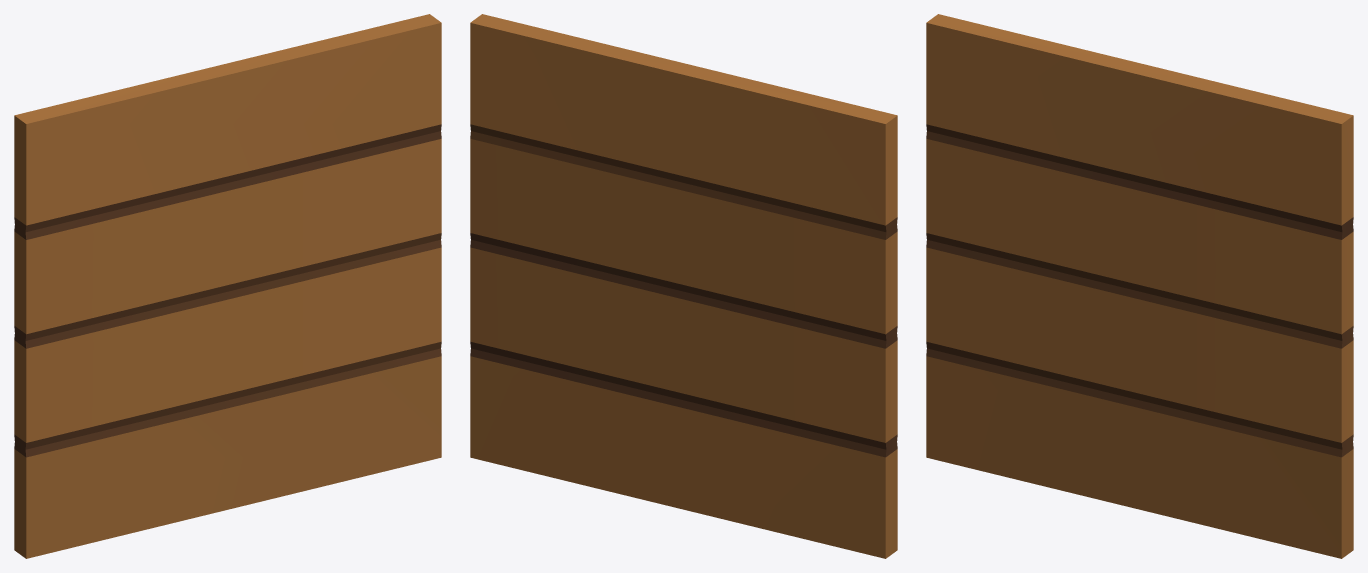
File: Wall_Wood_01.fbx
3 renders of one model, left to right at view 1: azimuth 30°, elevation 25°; view 2: azimuth 150°, elevation 25°; view 3: azimuth 330°, elevation 25°, orthographic.
Parts seen in each view (by area): view 1: Wall_Wood_01; view 2: Wall_Wood_01; view 3: Wall_Wood_01.
Boxes of the visible parts, box(x1,y1,x2,y2) form: Wall_Wood_01: box(14, 14, 441, 558); Wall_Wood_01: box(470, 14, 897, 558); Wall_Wood_01: box(926, 14, 1353, 558).
Size of the model in its own units: 4 by 4 by 0.2.
